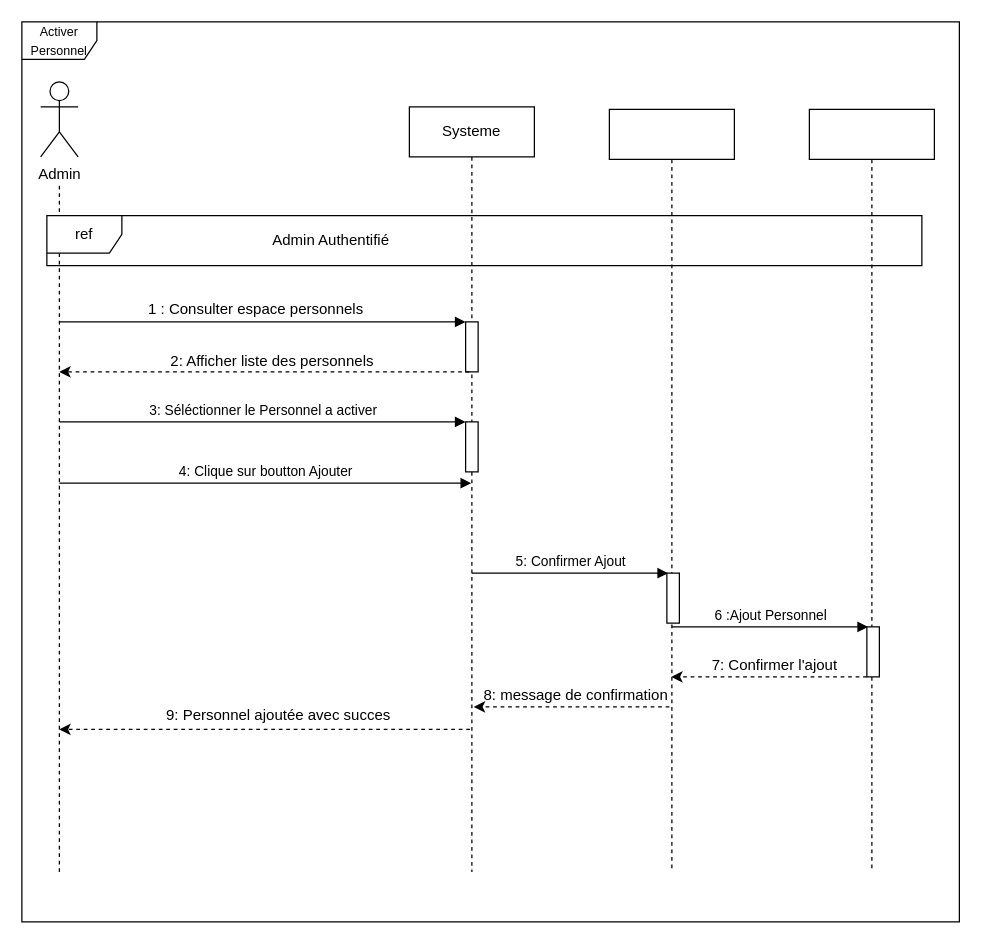
Some shapes in this 981 by 944 pixel diagram are drawn without their labels. Here are the shapes that lost their labels. From the top down, the box of each, then its label:
(608, 108, 734, 872): Controlleur
(808, 108, 934, 872): Base de données
